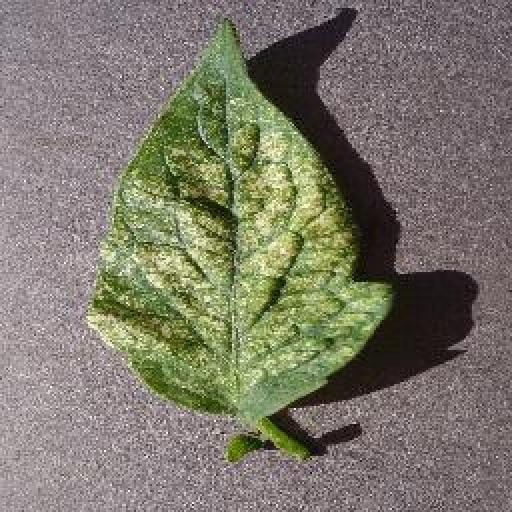disease_tomato: (92, 14, 395, 418)
